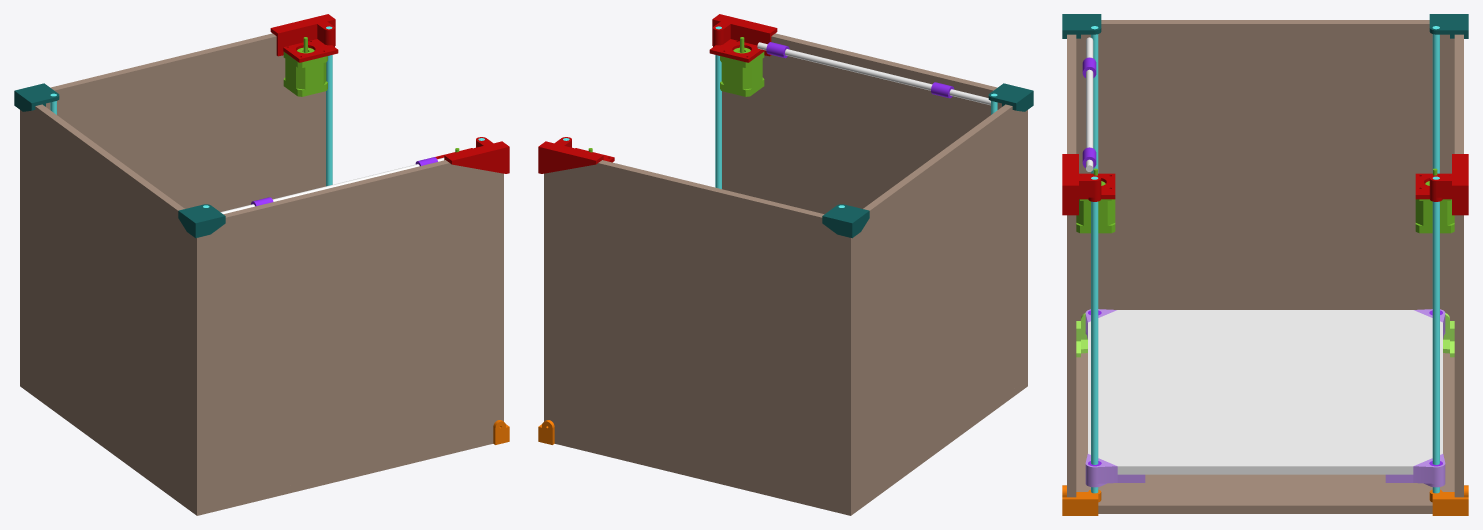
File: smartCoreModOch_v10.obj
3 renders of one model, left to right at view 1: azimuth 30°, elevation 25°; view 2: azimuth 150°, elevation 25°; view 3: azimuth 270°, elevation 25°, orthographic. The views are drawn at different scales.
Parts seen in each view (by area): view 1: Mesh23 gauche1 Model, Mesh2 back1 Model, Mesh3 droite1 Model, Mesh1 fond1 Model, Mesh25 support_haut_front2 Model, Mesh6 enma17_2 Model, Mesh24 support_haut_front1 Model, Mesh26 support_hau_back_left1 Model, Mesh10 bare_axe_z3 Model, Mesh27 support_hau_back_left2 Model, Mesh28 barre_transversalle1 Model; view 2: Mesh3 droite1 Model, Mesh2 back1 Model, Mesh23 gauche1 Model, Mesh1 fond1 Model, Mesh24 support_haut_front1 Model, Mesh5 enma17_1 Model, Mesh25 support_haut_front2 Model, Mesh28 barre_transversalle1 Model, Mesh27 support_hau_back_left2 Model, Mesh8 bare_axe_z2 Model, Mesh26 support_hau_back_left1 Model; view 3: Mesh2 back1 Model, Mesh22 plateau_principal1 Model, Mesh1 fond1 Model, Mesh3 droite1 Model, Mesh23 gauche1 Model, Mesh8 bare_axe_z2 Model, Mesh10 bare_axe_z3 Model, Mesh24 support_haut_front1 Model, Mesh25 support_haut_front2 Model, Mesh5 enma17_1 Model, Mesh6 enma17_2 Model, Mesh11 bare_axe_z4 Model (+8 smaller).
Part boxes in pixels (x1,y1,x2,y2): Mesh23 gauche1 Model: [193, 160, 503, 508]; Mesh2 back1 Model: [24, 104, 192, 504]; Mesh3 droite1 Model: [20, 33, 325, 381]; Mesh1 fond1 Model: [20, 379, 493, 515]; Mesh25 support_haut_front2 Model: [270, 14, 338, 62]; Mesh6 enma17_2 Model: [283, 37, 327, 96]; Mesh24 support_haut_front1 Model: [435, 137, 509, 173]; Mesh26 support_hau_back_left1 Model: [178, 204, 225, 238]; Mesh10 bare_axe_z3 Model: [326, 26, 332, 186]; Mesh27 support_hau_back_left2 Model: [14, 83, 59, 111]; Mesh28 barre_transversalle1 Model: [220, 157, 444, 214]; Mesh3 droite1 Model: [544, 160, 854, 508]; Mesh2 back1 Model: [855, 104, 1023, 504]; Mesh23 gauche1 Model: [722, 33, 1027, 381]; Mesh1 fond1 Model: [554, 379, 1027, 515]; Mesh24 support_haut_front1 Model: [709, 14, 777, 62]; Mesh5 enma17_1 Model: [720, 37, 764, 96]; Mesh25 support_haut_front2 Model: [538, 137, 614, 173]; Mesh28 barre_transversalle1 Model: [757, 42, 990, 105]; Mesh27 support_hau_back_left2 Model: [822, 204, 869, 238]; Mesh8 bare_axe_z2 Model: [715, 26, 721, 188]; Mesh26 support_hau_back_left1 Model: [988, 83, 1033, 111]; Mesh2 back1 Model: [1076, 20, 1454, 320]; Mesh22 plateau_principal1 Model: [1088, 310, 1442, 474]; Mesh1 fond1 Model: [1076, 353, 1454, 513]; Mesh3 droite1 Model: [1454, 34, 1463, 497]; Mesh23 gauche1 Model: [1067, 34, 1076, 497]; Mesh8 bare_axe_z2 Model: [1091, 176, 1098, 493]; Mesh10 bare_axe_z3 Model: [1432, 176, 1439, 493]; Mesh24 support_haut_front1 Model: [1062, 154, 1115, 215]; Mesh25 support_haut_front2 Model: [1415, 154, 1468, 215]; Mesh5 enma17_1 Model: [1076, 168, 1115, 233]; Mesh6 enma17_2 Model: [1415, 168, 1454, 233]; Mesh11 bare_axe_z4 Model: [1432, 26, 1439, 173].
Bounding box in the file's own units: 440 × 395 × 440.
